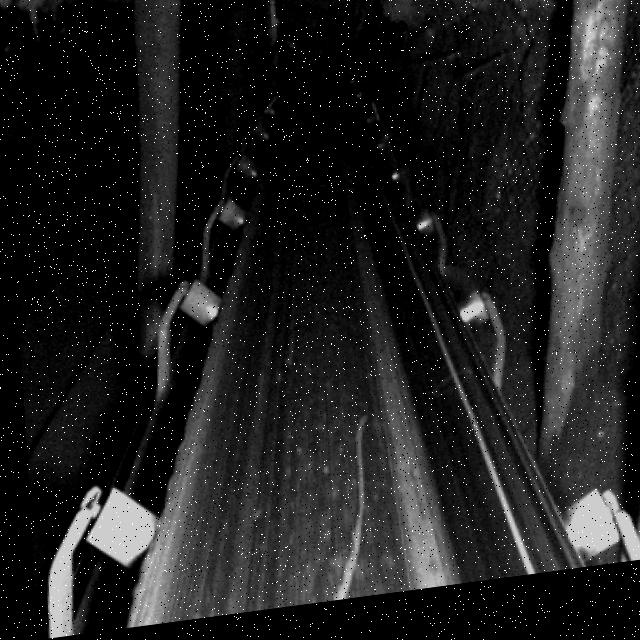bolt: (291, 418, 374, 612)
